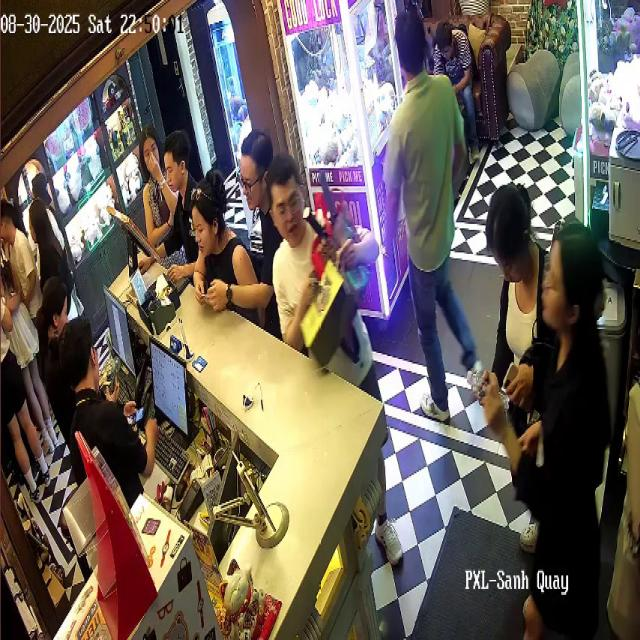khach: (396, 27, 468, 410), (546, 223, 610, 604), (275, 167, 377, 388), (175, 177, 270, 330), (485, 179, 549, 367), (5, 203, 45, 463), (234, 133, 286, 293), (135, 139, 170, 277), (27, 192, 67, 289), (34, 170, 68, 232)
nhan vien: (57, 347, 132, 562), (161, 149, 202, 260), (42, 277, 77, 378), (433, 24, 477, 102)
